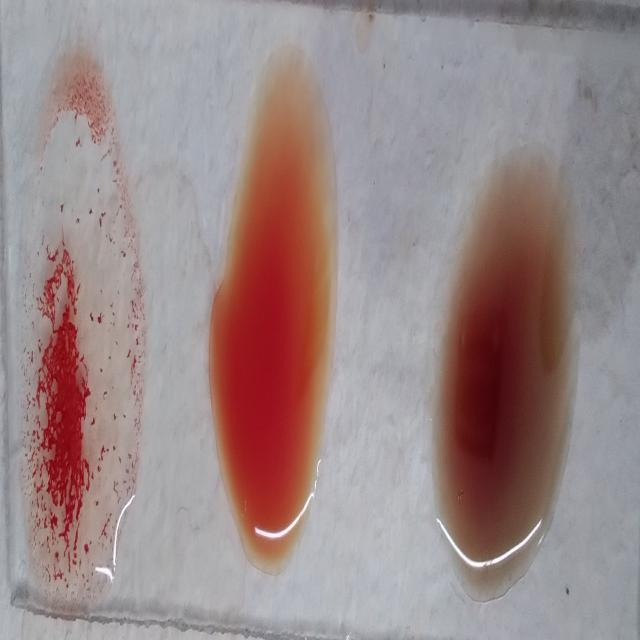D: (23, 52, 129, 586)
